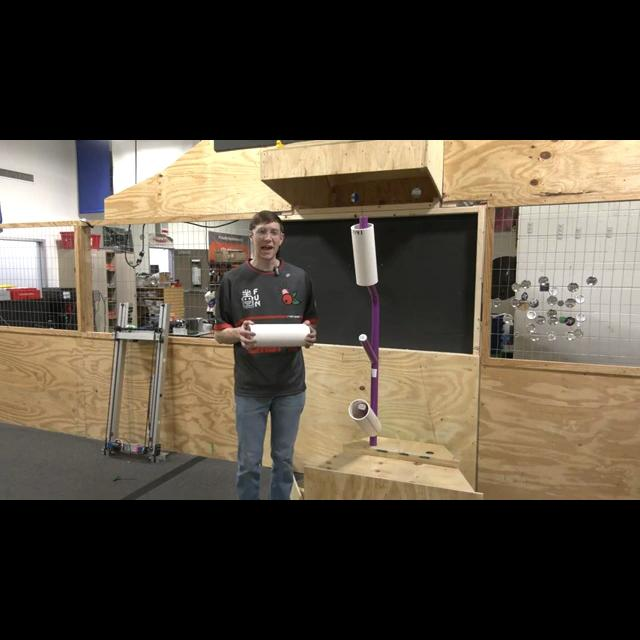CORAL: (349, 218, 378, 286), (247, 322, 310, 346), (348, 398, 382, 438)
